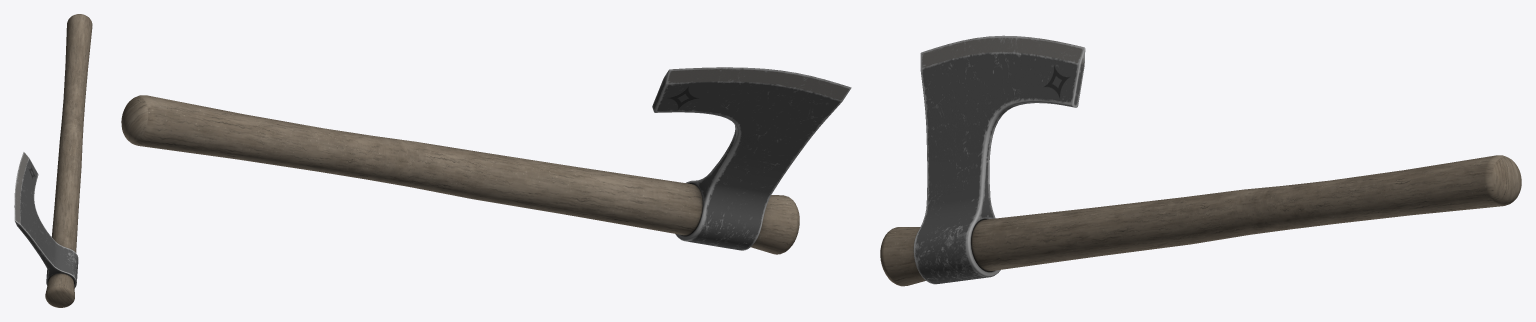
Rendered from axe.obj.
3 views of the same model, side by side, from view 1: azimuth 30°, elevation 25°; view 2: azimuth 150°, elevation 25°; view 3: azimuth 270°, elevation 25° (orthographic). The views are drawn at different scales.
Visible parts, largest first — view 1: dynamic; view 2: dynamic; view 3: dynamic.
Part boxes in pixels (left/top/right/bottom): dynamic: left=14, top=14, right=92, bottom=307; dynamic: left=121, top=67, right=851, bottom=254; dynamic: left=880, top=35, right=1521, bottom=286.
Bounding box in the file's own units: 11.53 × 7.23 × 14.54.
1 material, 1 textured.
